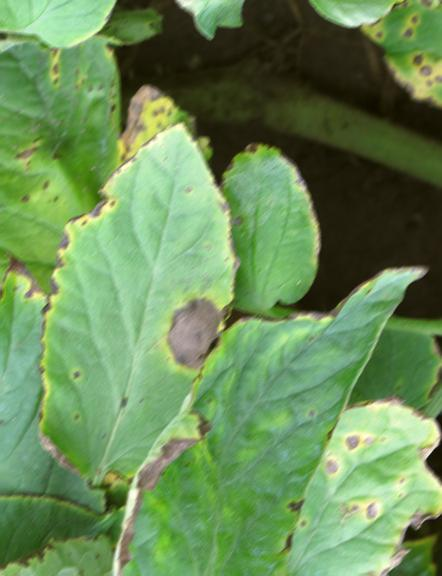Tomato Early blight leaf: (84, 278, 442, 576), (35, 141, 247, 486), (0, 17, 144, 277)
